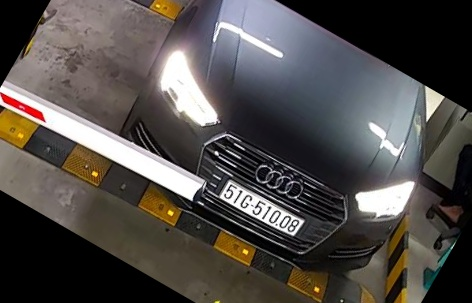plate: (208, 172, 303, 247)
